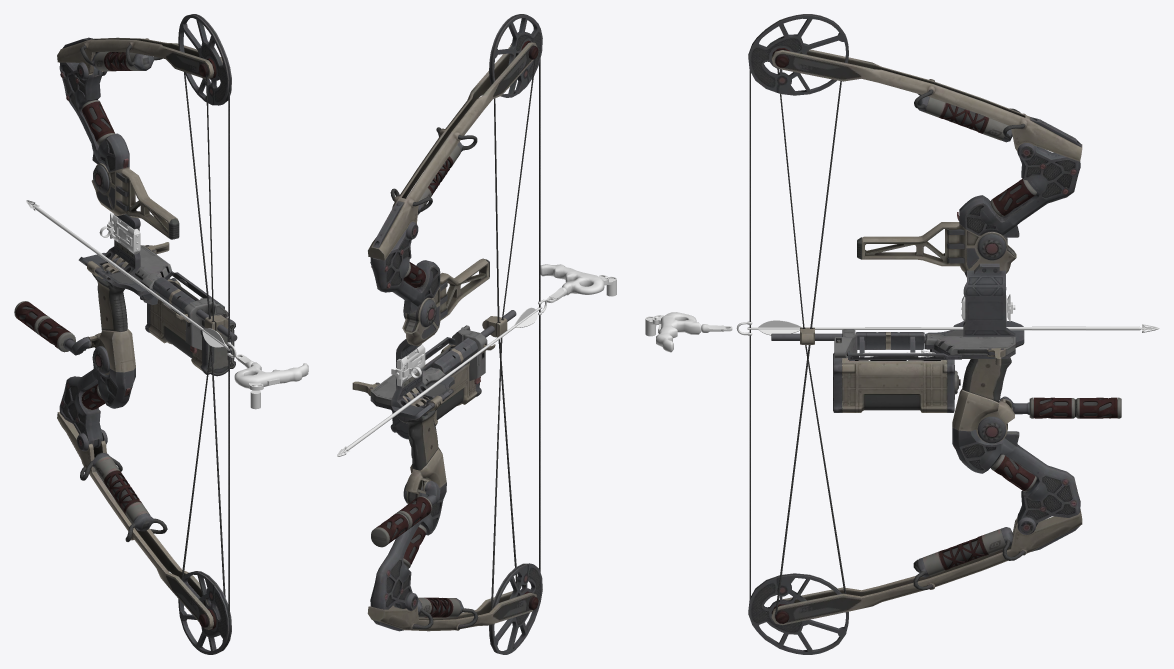
Rendered from apex_bocek.glb.
3 renders of one model, left to right at view 1: azimuth 30°, elevation 25°; view 2: azimuth 150°, elevation 25°; view 3: azimuth 270°, elevation 25°, orthographic.
Visible parts, largest first — view 1: body__tex_apex_bocek_1, body__polymer_2, body__polymer_0, irons__polymer_4; view 2: body__tex_apex_bocek_1, body__polymer_2, body__polymer_0, irons__polymer_4; view 3: body__tex_apex_bocek_1, body__polymer_0, body__polymer_2.
Part boxes in pixels (<box>): body__tex_apex_bocek_1: <box>14,14,237,654</box>; body__polymer_2: <box>227,342,308,409</box>; body__polymer_0: <box>26,200,231,350</box>; irons__polymer_4: <box>99,212,140,254</box>; body__tex_apex_bocek_1: <box>352,14,542,654</box>; body__polymer_2: <box>538,264,616,315</box>; body__polymer_0: <box>337,306,542,456</box>; irons__polymer_4: <box>391,344,425,386</box>; body__tex_apex_bocek_1: <box>748,14,1121,654</box>; body__polymer_0: <box>747,320,1159,335</box>; body__polymer_2: <box>645,312,752,352</box>.
Bounding box in the file's own units: 0.1648 × 1.05 × 0.7645.
2 materials, 1 textured.
